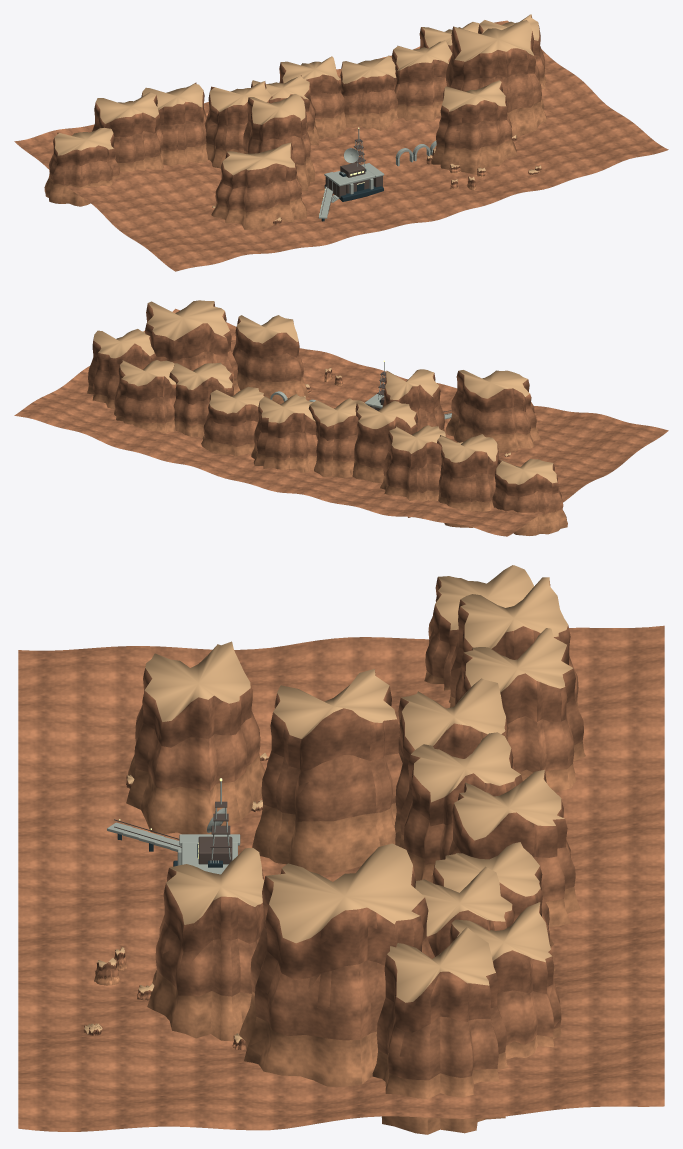
Rendered from desert-v1.glb.
3 views of the same model, one above another, from view 1: azimuth 30°, elevation 25°; view 2: azimuth 150°, elevation 25°; view 3: azimuth 270°, elevation 25° (orthographic). The views are drawn at different scales.
Parts seen in each view (by area): view 1: desert strata 1, Surface mantle.001, desert strata 2, desert strata 0, Concrete and brushed alloy.001, Oxidised armour.001, Recesses.001; view 2: desert strata 1, Surface mantle.001, desert strata 2, desert strata 0, Concrete and brushed alloy.001; view 3: desert strata 1, Surface mantle.001, desert strata 2, desert strata 0, Concrete and brushed alloy.001, Oxidised armour.001.
Part boxes in pixels (box(x1,y1,x2,y2)): desert strata 1: box(14, 20, 668, 271); Surface mantle.001: box(54, 14, 541, 220); desert strata 2: box(53, 15, 541, 223); desert strata 0: box(44, 72, 546, 229); Concrete and brushed alloy.001: box(318, 129, 436, 218); Oxidised armour.001: box(321, 139, 382, 214); Recesses.001: box(321, 169, 383, 221); desert strata 1: box(14, 308, 668, 536); Surface mantle.001: box(94, 300, 557, 484); desert strata 2: box(92, 302, 558, 497); desert strata 0: box(87, 372, 567, 535); Concrete and brushed alloy.001: box(270, 362, 451, 419); desert strata 1: box(18, 616, 664, 1131); Surface mantle.001: box(84, 565, 573, 1042); desert strata 2: box(84, 577, 575, 1045); desert strata 0: box(94, 671, 585, 1134); Concrete and brushed alloy.001: box(107, 781, 240, 874); Oxidised armour.001: box(114, 801, 232, 864).
Bounding box in the file's own units: 208 × 38.23 × 115.
Materials: 8 (3 with a texture image).
